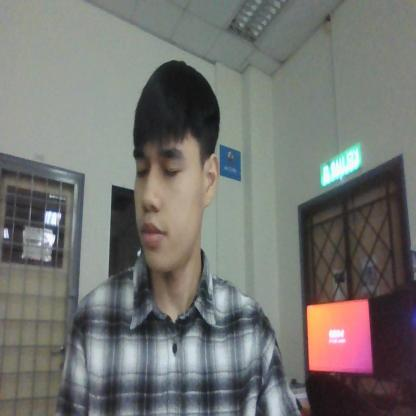Closed-Eyes: (132, 141, 188, 190)
